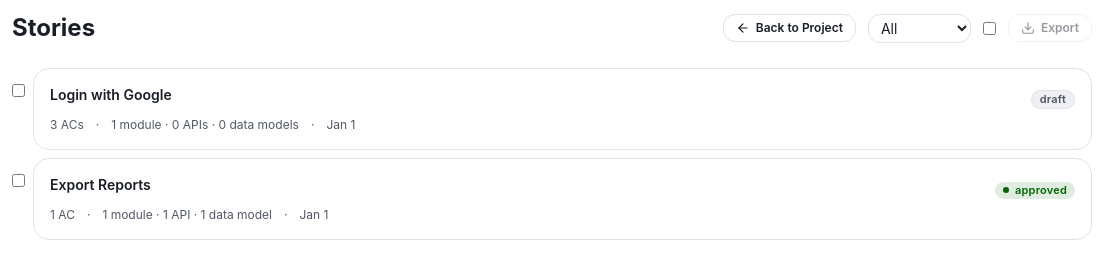
StoriesPage (list) › BMAD Story Files option is present when bmadDetected is true
The image size is (1110, 257).
Click the checkbox named "Select all visible stories".
click(989, 28)  # box [983, 22, 996, 34]
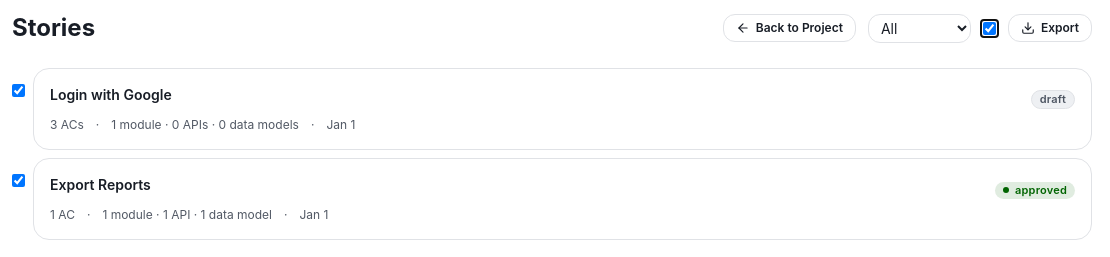
Click the button "Export".
click(1050, 28)  # box [1008, 14, 1092, 42]
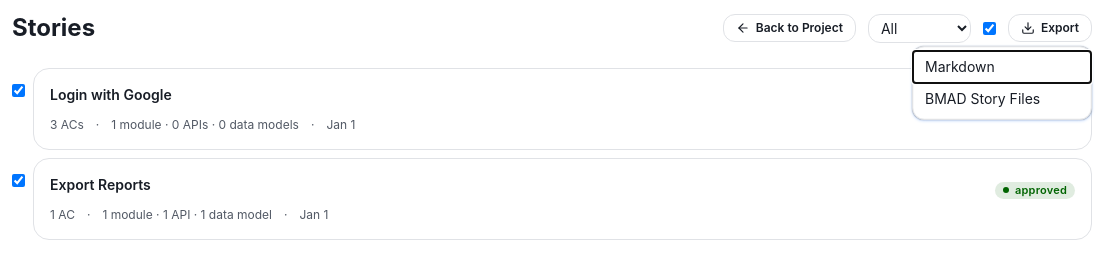
Result: the menu item "BMAD Story Files" is shown at [913, 83, 1091, 115]
